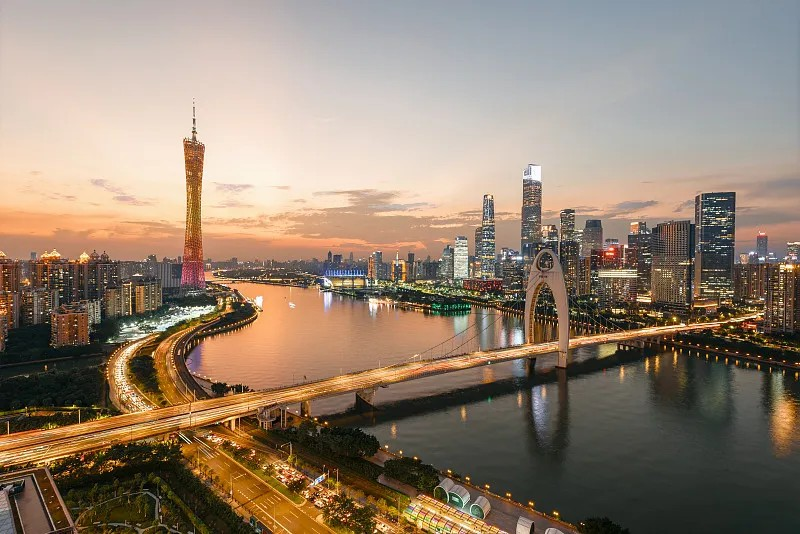Canton: (181, 99, 207, 295)
